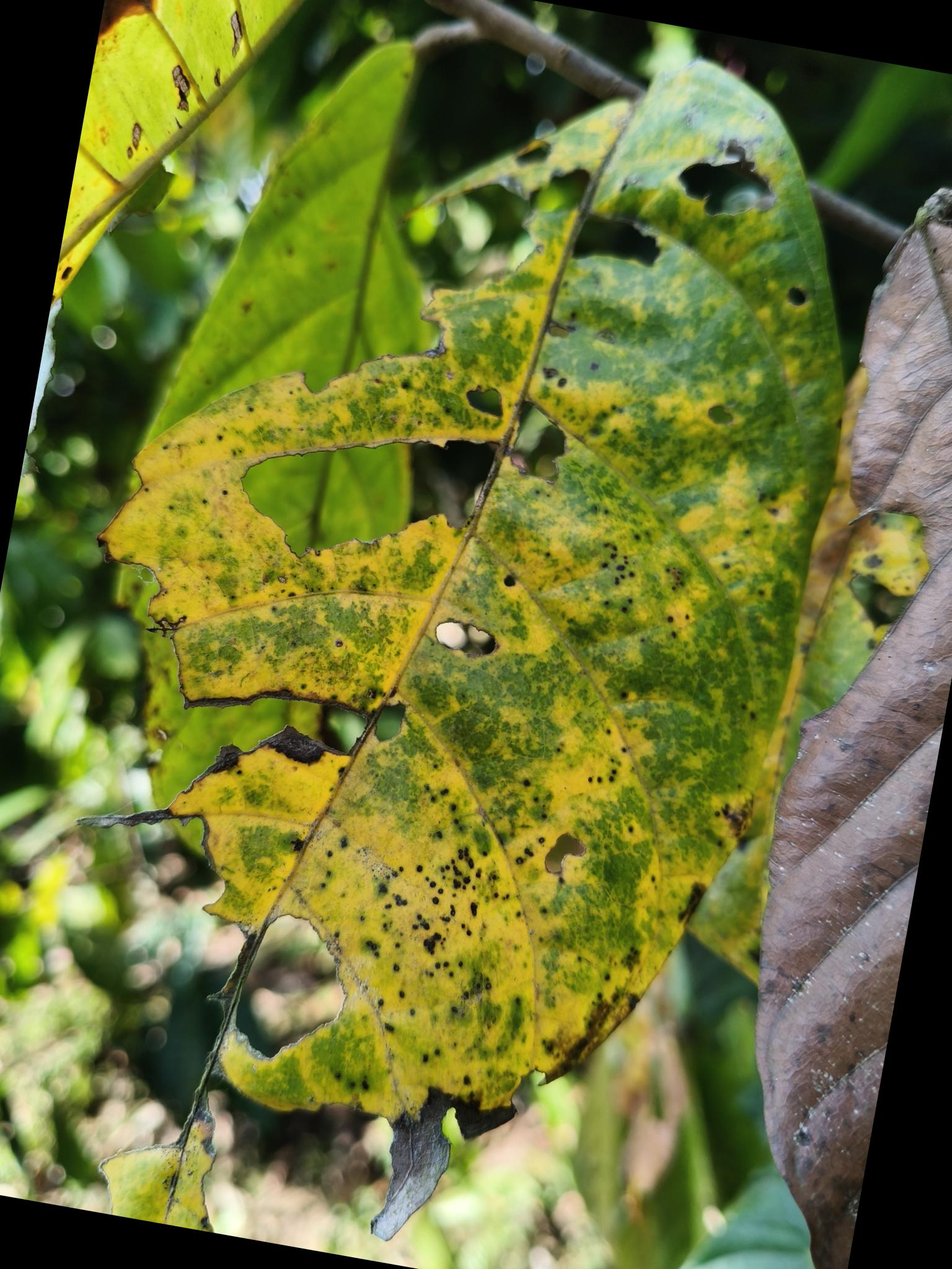Fosforo: (83, 30, 867, 1131)
